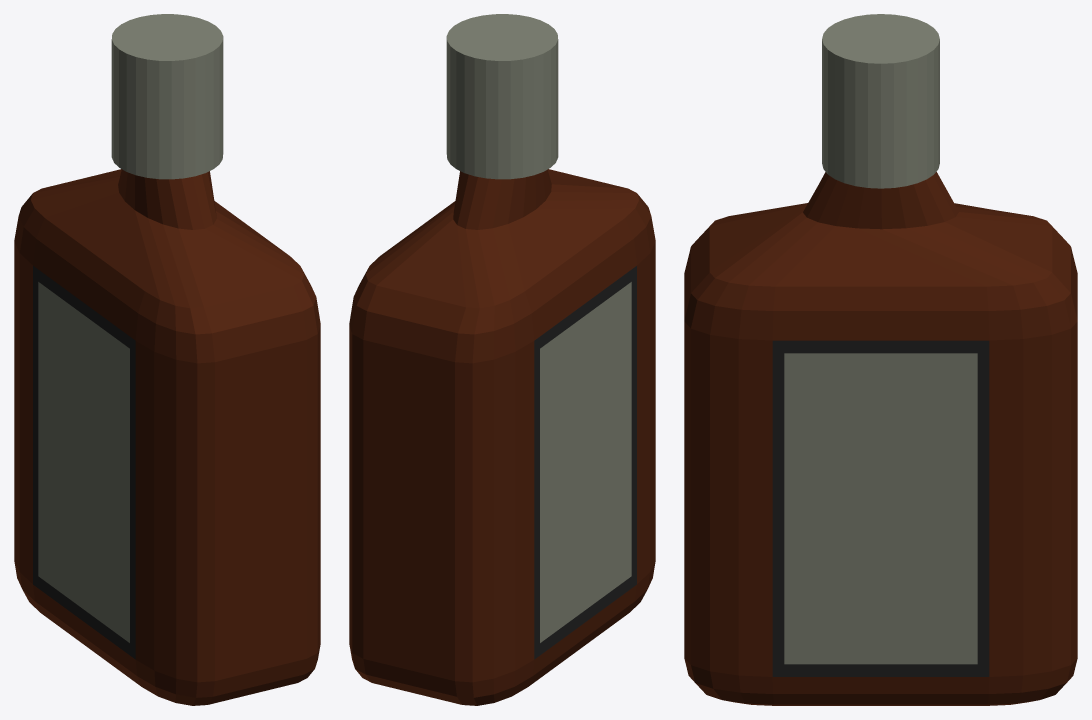
File: liquor1.fbx
3 renders of one model, left to right at view 1: azimuth 30°, elevation 25°; view 2: azimuth 150°, elevation 25°; view 3: azimuth 270°, elevation 25°, orthographic. The views are drawn at different scales.
Parts seen in each view (by area): view 1: Cube.003; view 2: Cube.003; view 3: Cube.003.
Part boxes in pixels (x1,y1,x2,y2): Cube.003: [14, 14, 320, 705]; Cube.003: [349, 14, 655, 705]; Cube.003: [684, 14, 1077, 705].
Bounding box in the file's own units: 115 × 394 × 222.
